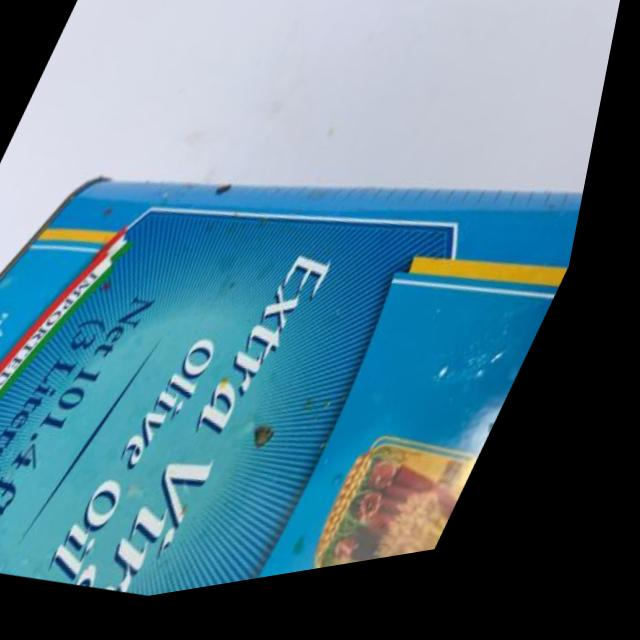metal: (0, 8, 626, 640)
